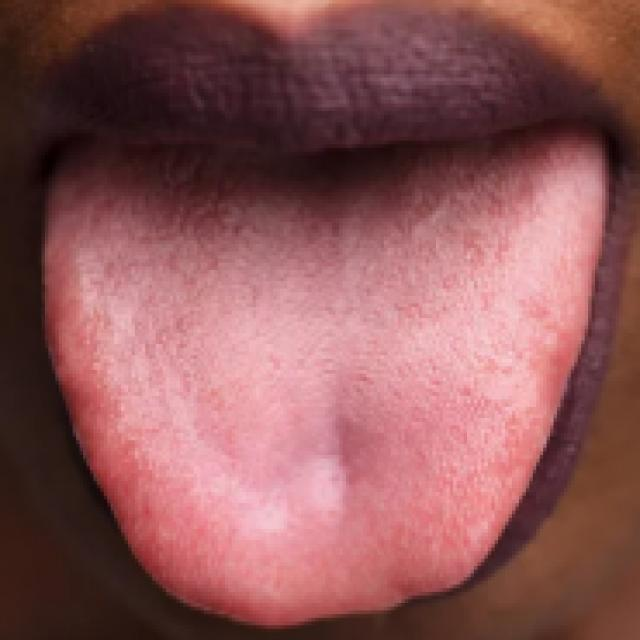No Cancer: (59, 143, 580, 640)
